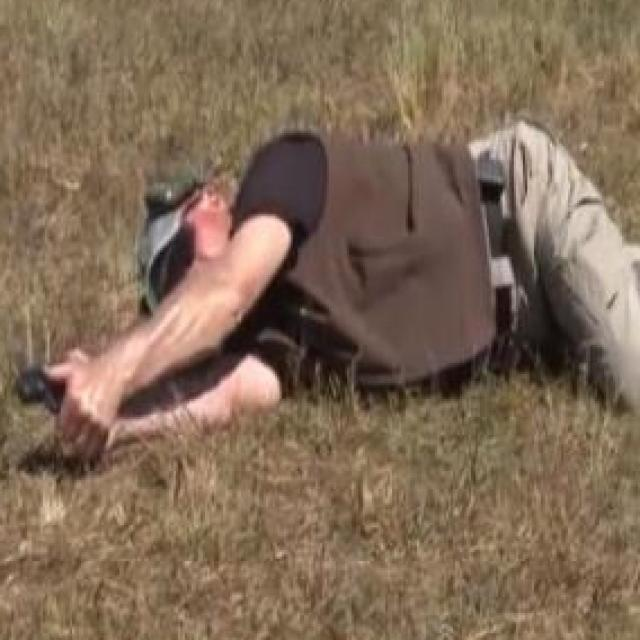pistol: (18, 333, 99, 444)
